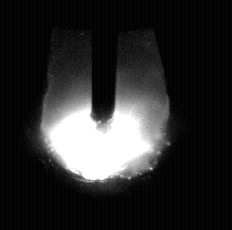arame: (92, 0, 117, 122)
poca: (40, 0, 168, 230)
